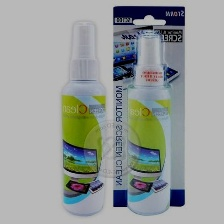book: (110, 1, 189, 209)
cleaning_solution: (58, 15, 111, 219), (124, 30, 175, 217)
